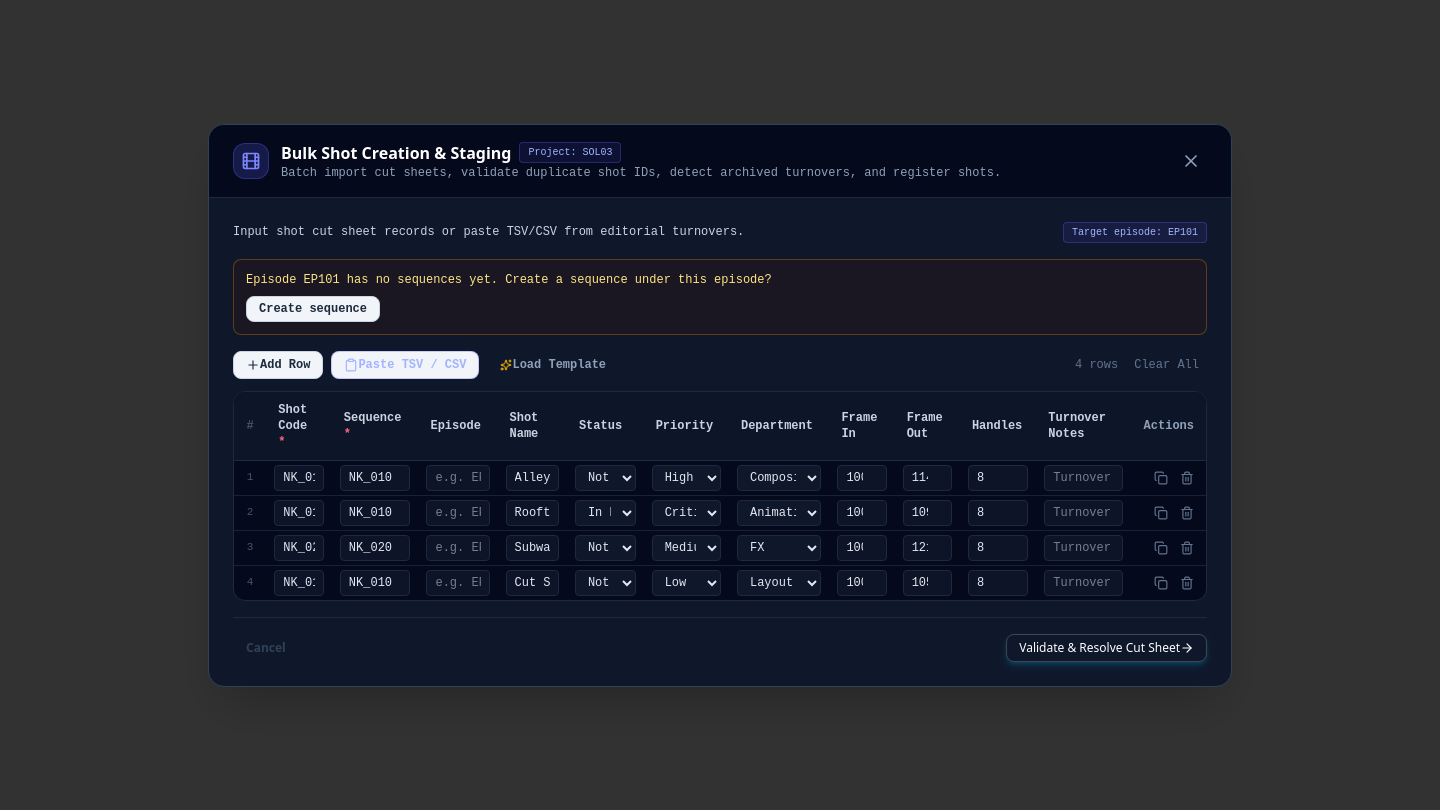
Test case: bulk shot creation on episodic projects › prompts to create a sequence when the episode has none, preserving the operation
Expected: the text "has no sequences yet" is shown, x1=340 y1=272 x2=772 y2=286
Expected: the 1st field showing "NK_010_030" is shown, x1=274 y1=464 x2=324 y2=490
// Blank one row's sequence so the created sequence has somewhere to land.
Clear the 2nd field showing "NK_010". click: (375, 478)
box: x1=340 y1=464 x2=410 y2=490
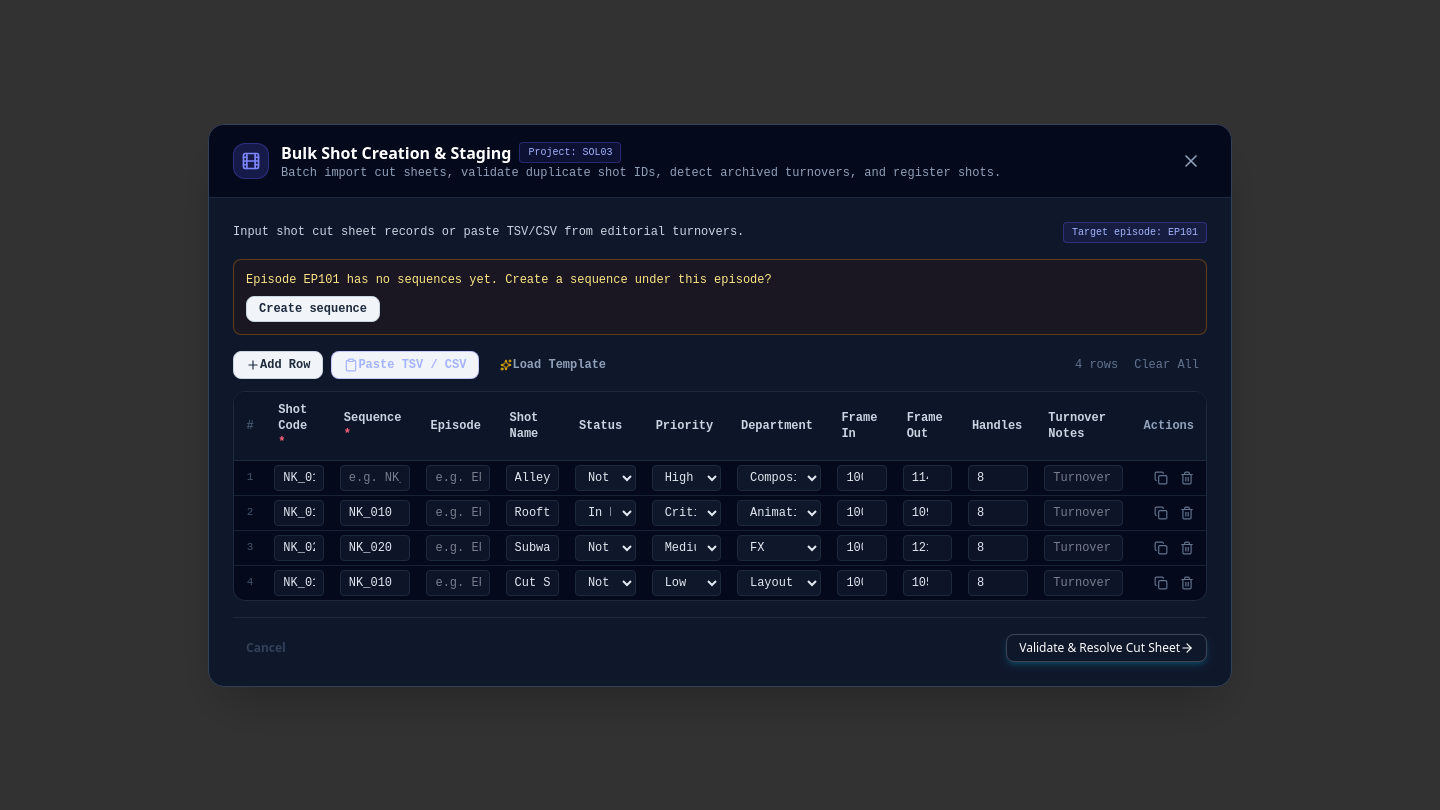
Click the button "Create sequence". click: (313, 308)
box: x1=246 y1=296 x2=380 y2=322
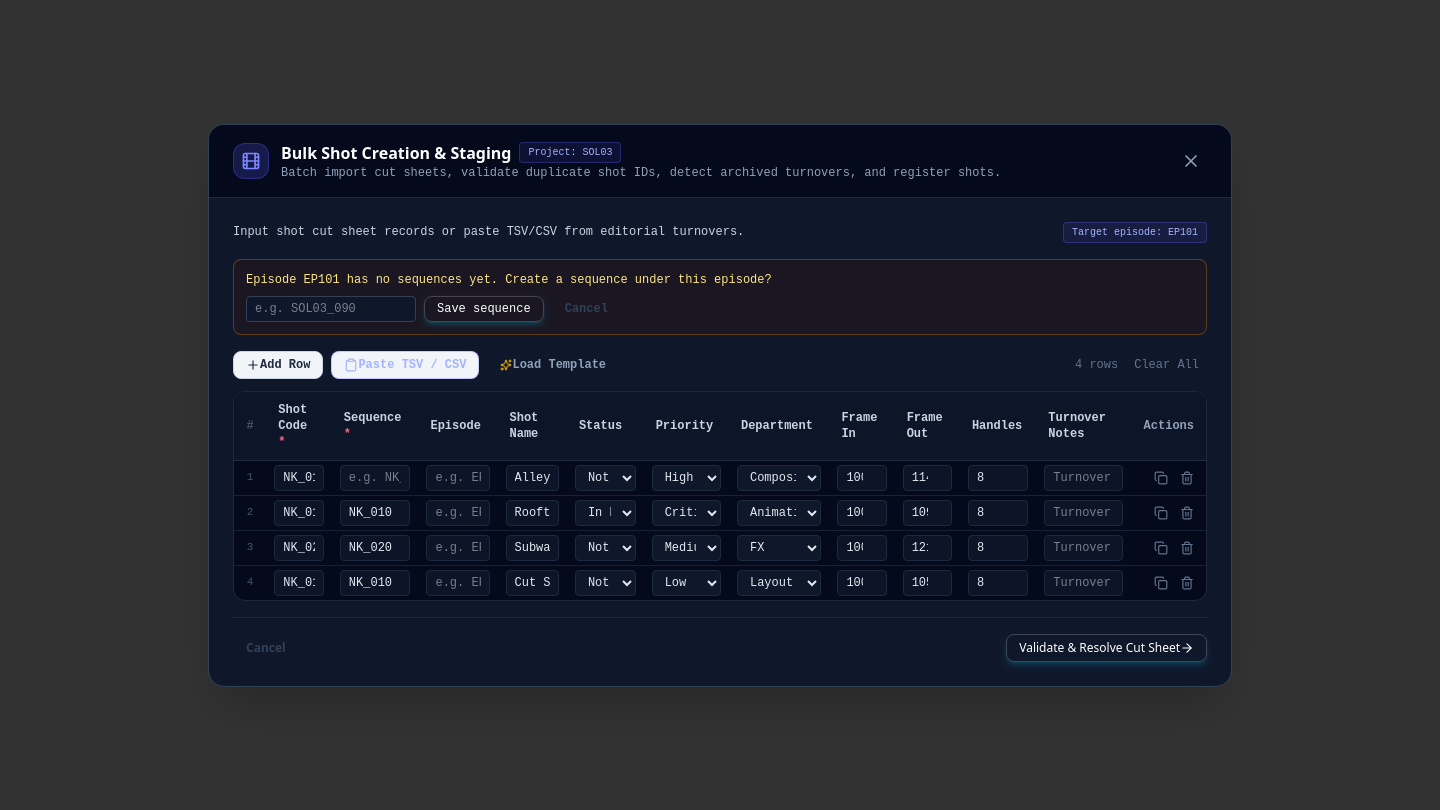
Type "SOL03_090" into the field with placeholder "e.g. SOL03_090". click: (331, 308)
box: x1=246 y1=296 x2=416 y2=322
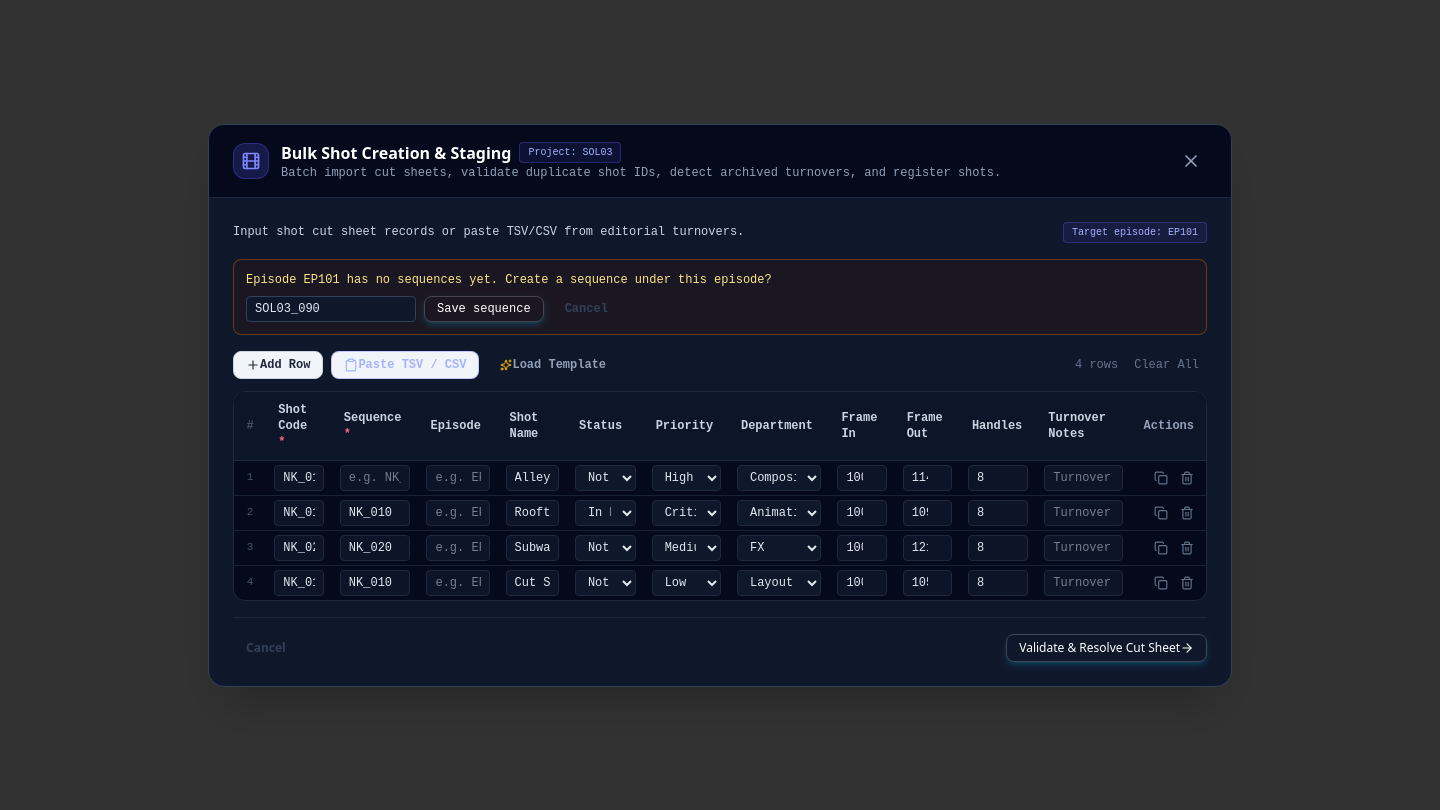
Click the button "Save sequence". click: (484, 308)
box: x1=424 y1=296 x2=544 y2=322
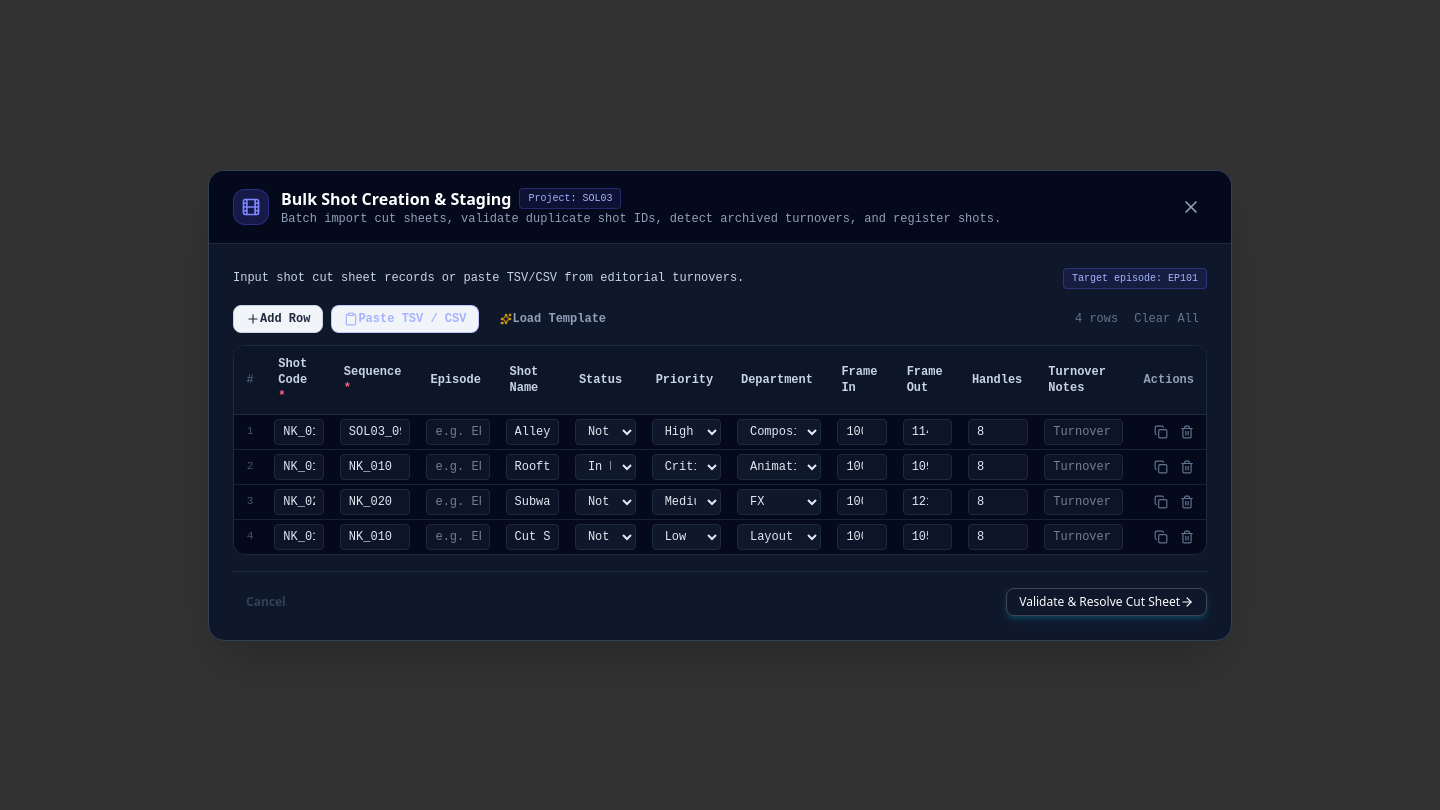
Expected: the 1st field showing "NK_010_030" is shown, x1=274 y1=418 x2=324 y2=444
Expected: the text "has no sequences yet" is gone
Expected: the 2nd field showing "SOL03_090" is shown, x1=340 y1=418 x2=410 y2=444
